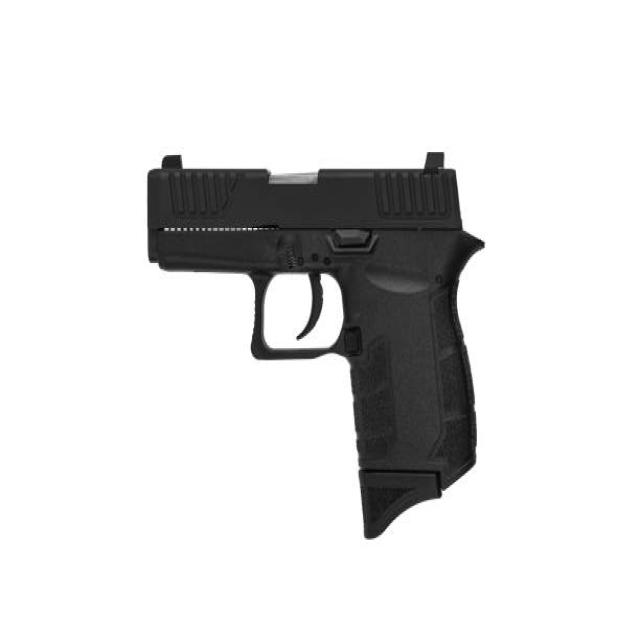pistol: (146, 146, 491, 542)
